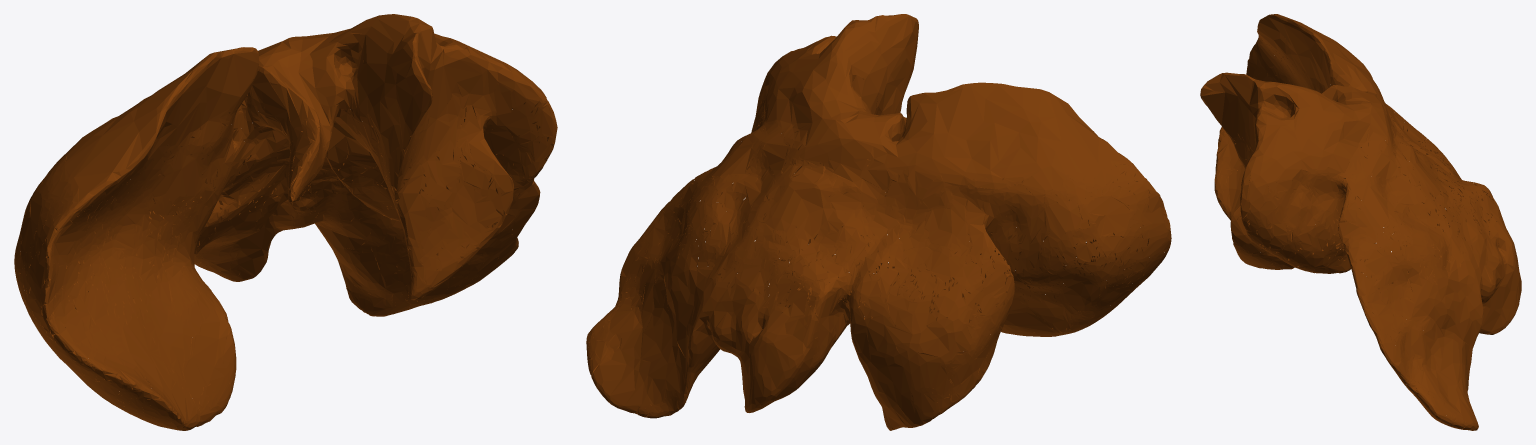
File: chat_foie.glb
3 views of the same model, side by side, from view 1: azimuth 30°, elevation 25°; view 2: azimuth 150°, elevation 25°; view 3: azimuth 270°, elevation 25° (orthographic). The views are drawn at different scales.
Parts seen in each view (by area): view 1: Object_2, Object_3, Object_4, Object_5; view 2: Object_2, Object_4, Object_3, Object_5; view 3: Object_2, Object_4, Object_3, Object_5.
Boxes of the visible parts, left/top/right/bottom form: Object_2: left=14, top=14, right=554, bottom=430; Object_3: left=14, top=60, right=557, bottom=397; Object_4: left=19, top=69, right=540, bottom=430; Object_5: left=14, top=109, right=549, bottom=352; Object_2: left=644, top=14, right=1168, bottom=426; Object_4: left=586, top=118, right=1171, bottom=430; Object_3: left=586, top=74, right=1171, bottom=430; Object_5: left=662, top=146, right=1165, bottom=322; Object_2: left=1200, top=14, right=1501, bottom=422; Object_4: left=1214, top=61, right=1521, bottom=430; Object_3: left=1216, top=36, right=1490, bottom=428; Object_5: left=1234, top=62, right=1493, bottom=306.
Size of the model in its own units: 105 by 70.73 by 68.29.
